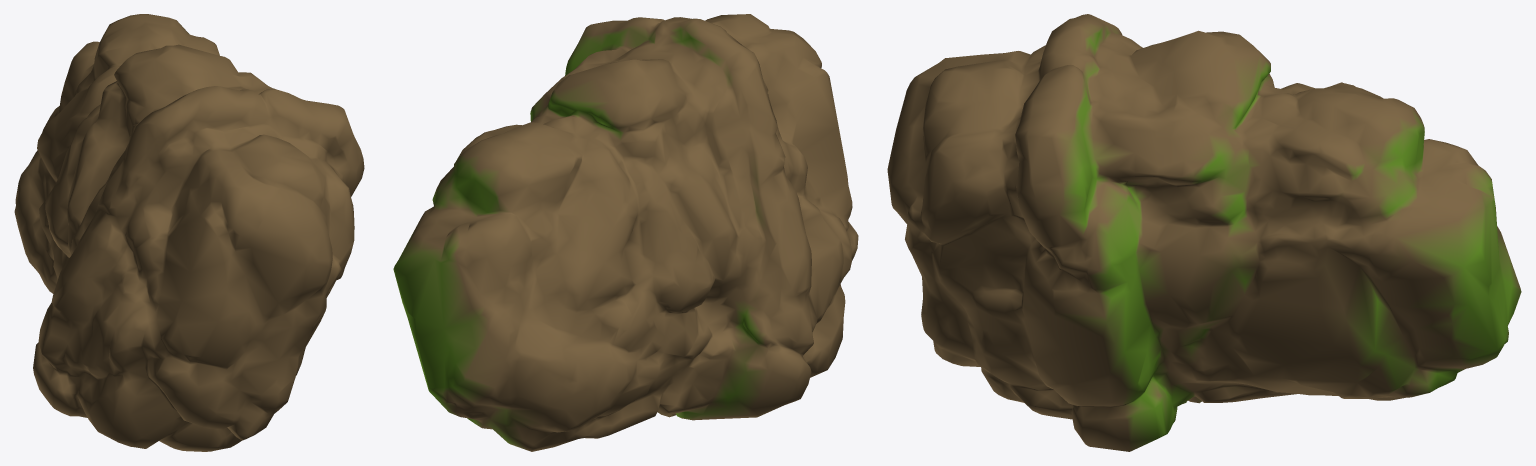
File: cell_x3_z-1_render.gltf
The picture shows the model from 3 angles, left to right: view 1: azimuth 30°, elevation 25°; view 2: azimuth 150°, elevation 25°; view 3: azimuth 270°, elevation 25°; orthographic projection. The views are drawn at different scales.
Parts seen in each view (by area): view 1: SM_ENV_cliff_castle_02_LOD0.041; view 2: SM_ENV_cliff_castle_02_LOD0.041; view 3: SM_ENV_cliff_castle_02_LOD0.041.
Boxes of the visible parts, bbox=[...] form: SM_ENV_cliff_castle_02_LOD0.041: bbox=[14, 14, 364, 451]; SM_ENV_cliff_castle_02_LOD0.041: bbox=[393, 14, 858, 451]; SM_ENV_cliff_castle_02_LOD0.041: bbox=[887, 14, 1521, 451].
Bounding box in the file's own units: 25.79 × 31.98 × 44.15.
